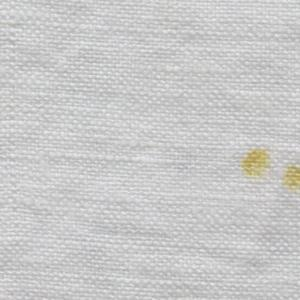Stain: (237, 144, 300, 198)
